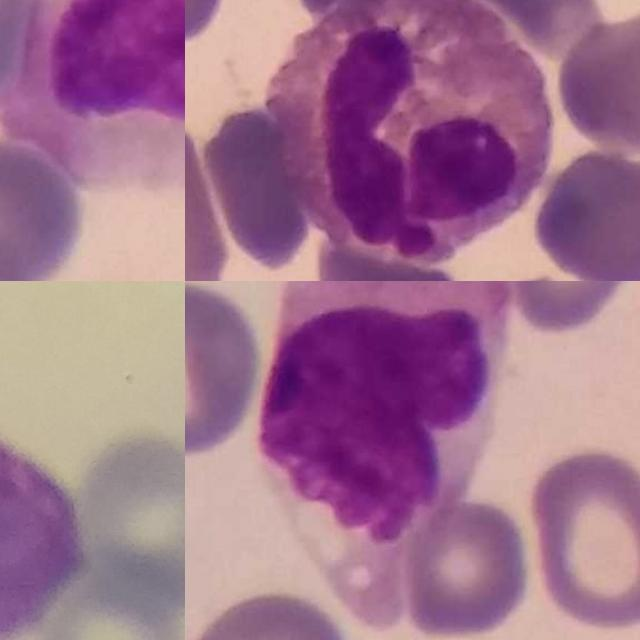Basophil: (0, 406, 81, 640)
Eosinophil: (268, 0, 552, 267)
Monocyte: (256, 281, 505, 637), (9, 0, 185, 190)
